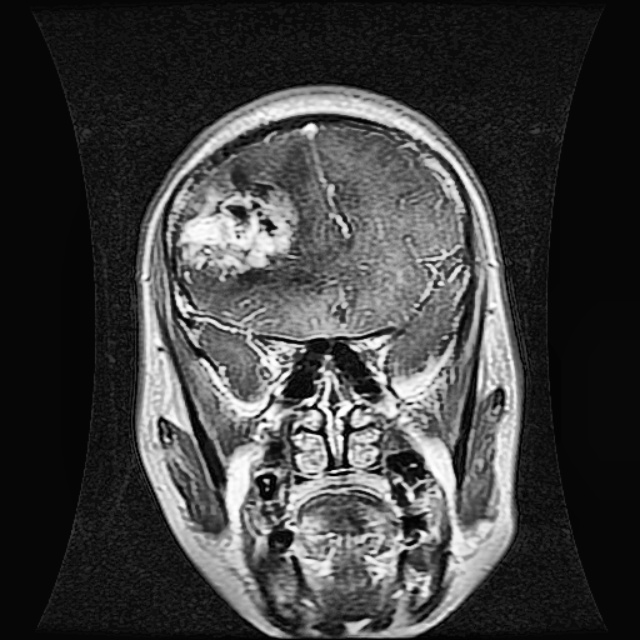Meningioma: (177, 163, 307, 284)
